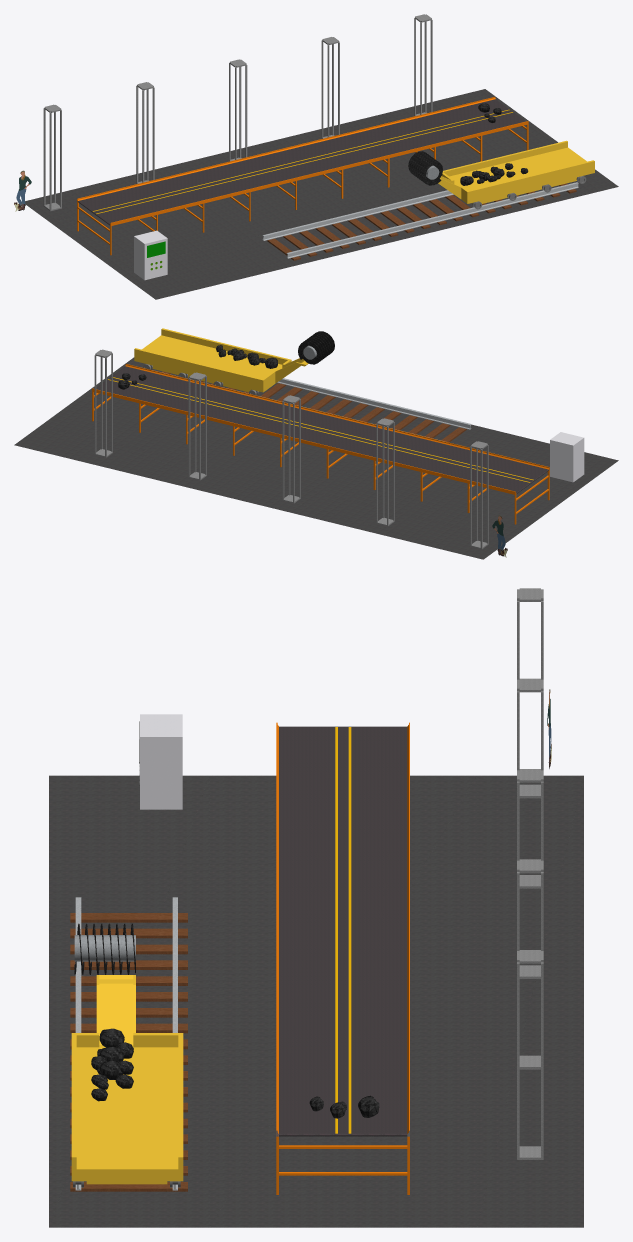
Rendered from 智能煤矿-DgoFJXmF.glb.
The picture shows the model from 3 angles, top to bottom: view 1: azimuth 30°, elevation 25°; view 2: azimuth 150°, elevation 25°; view 3: azimuth 270°, elevation 25°; orthographic projection. The views are drawn at different scales.
Visible parts, largest first — view 1: 地面, 传送带主体, 支架 (×5), 采煤机主体, 轨道 (×2), 挡板 (×2), 电脑, 采煤机齿轮; view 2: 地面, 传送带主体, 支架 (×5), 采煤机主体, 挡板 (×2), 电脑, 轨道, 采煤机齿轮, 传送带支架; view 3: 地面, 传送带主体, 采煤机主体, 支架 (×5), 电脑, 铁轨 (×4), 挡板 (×2), 采煤机齿轮, 传送带支架, 轨道.
Boxes of the visible parts, left/top/right/bottom form: 地面: left=25, top=89, right=618, bottom=299; 传送带主体: left=79, top=99, right=525, bottom=223; 支架 (×5): left=43, top=14, right=432, bottom=211; 采煤机主体: left=438, top=140, right=594, bottom=203; 轨道 (×2): left=262, top=182, right=578, bottom=258; 挡板 (×2): left=77, top=97, right=528, bottom=226; 电脑: left=134, top=230, right=167, bottom=280; 采煤机齿轮: left=408, top=151, right=442, bottom=185; 地面: left=14, top=357, right=618, bottom=559; 传送带主体: left=96, top=366, right=547, bottom=492; 支架 (×5): left=94, top=349, right=488, bottom=549; 采煤机主体: left=134, top=328, right=308, bottom=392; 挡板 (×2): left=92, top=364, right=549, bottom=494; 电脑: left=550, top=432, right=584, bottom=482; 轨道: left=277, top=378, right=471, bottom=429; 采煤机齿轮: left=298, top=331, right=334, bottom=364; 传送带支架: left=514, top=470, right=549, bottom=524; 地面: left=49, top=775, right=583, bottom=1227; 传送带主体: left=279, top=727, right=407, bottom=1133; 采煤机主体: left=71, top=975, right=183, bottom=1184; 支架 (×5): left=517, top=588, right=543, bottom=1159; 电脑: left=140, top=714, right=182, bottom=809; 铁轨 (×4): left=70, top=913, right=187, bottom=1191; 挡板 (×2): left=276, top=722, right=409, bottom=1136; 采煤机齿轮: left=74, top=923, right=135, bottom=974; 传送带支架: left=276, top=1136, right=409, bottom=1194; 轨道: left=172, top=897, right=177, bottom=1190.
Bounding box in the file's own units: 20.69 × 4.12 × 10.
34 materials, 9 textured.
